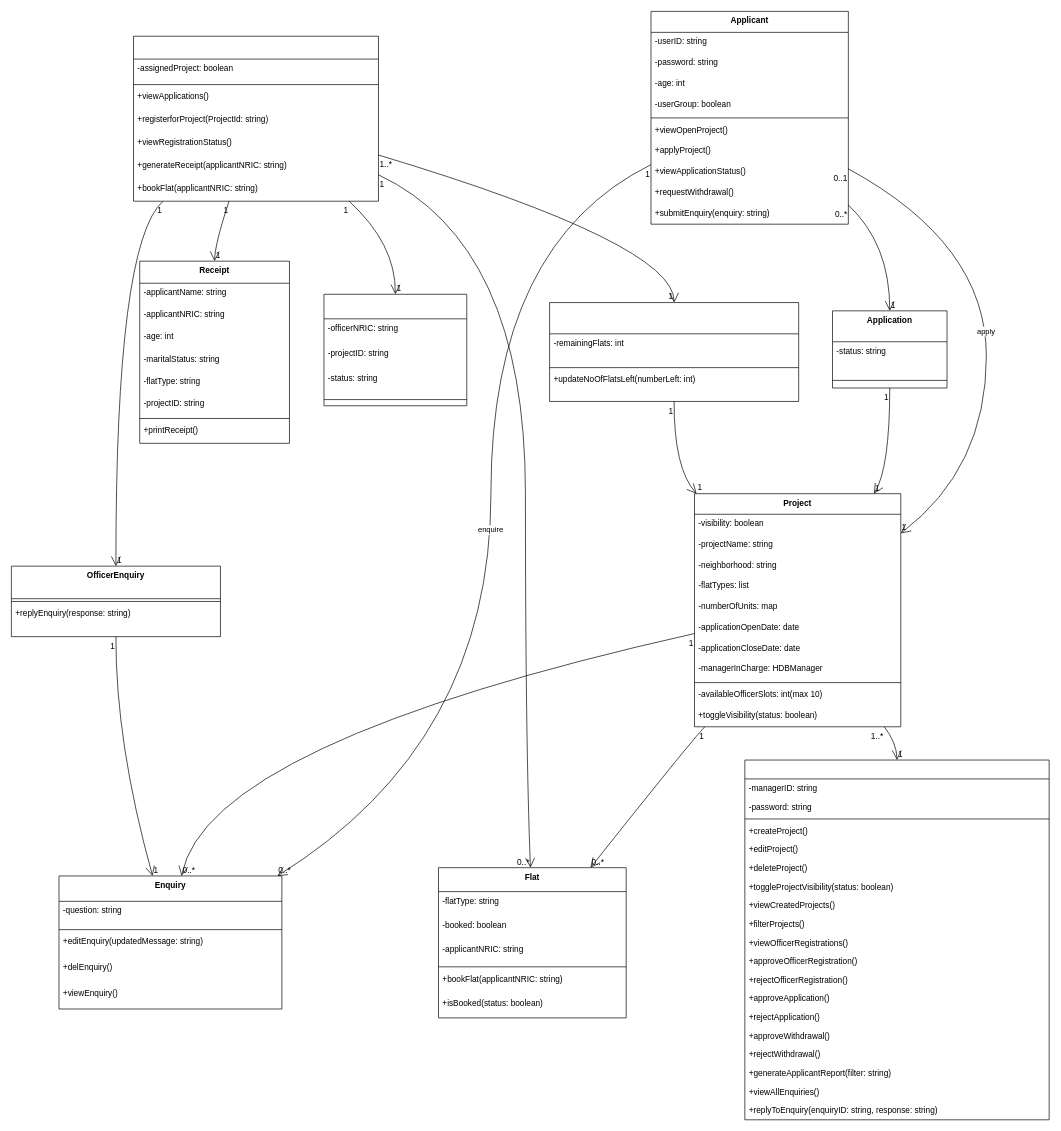
This 1061x1131 diagram has some shape labels left out. The shapes that lost their labels are listed below. From the top down, each one's box as (x1, y1, x2, y2) in pixels, then its label:
(133, 36, 378, 201): HDBOfficer
(323, 294, 467, 406): Registration
(549, 302, 799, 401): OfficerProject
(744, 759, 1049, 1120): HDBManager
